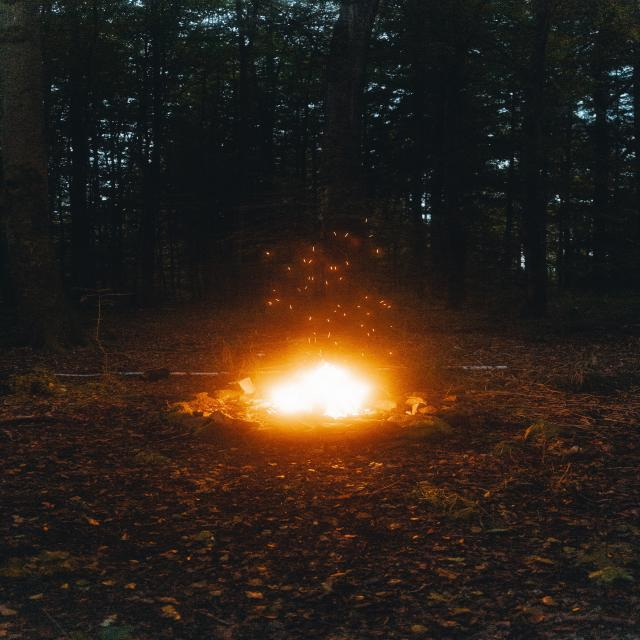Fire: (245, 356, 388, 427)
